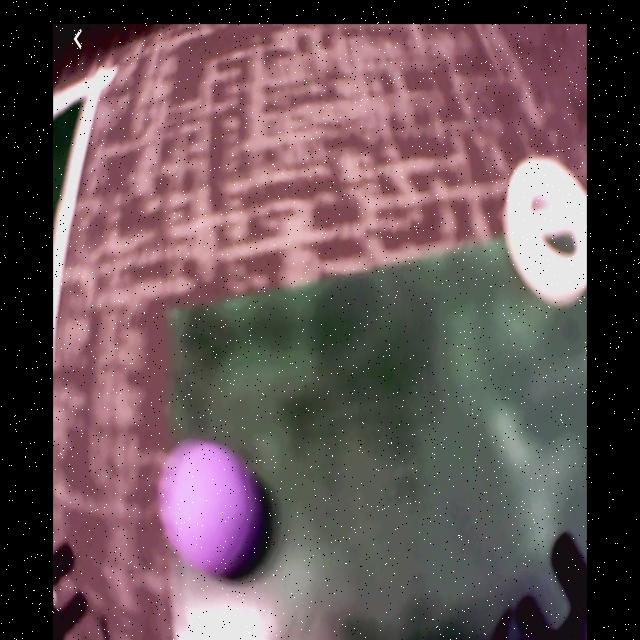ball: (173, 443, 257, 578)
